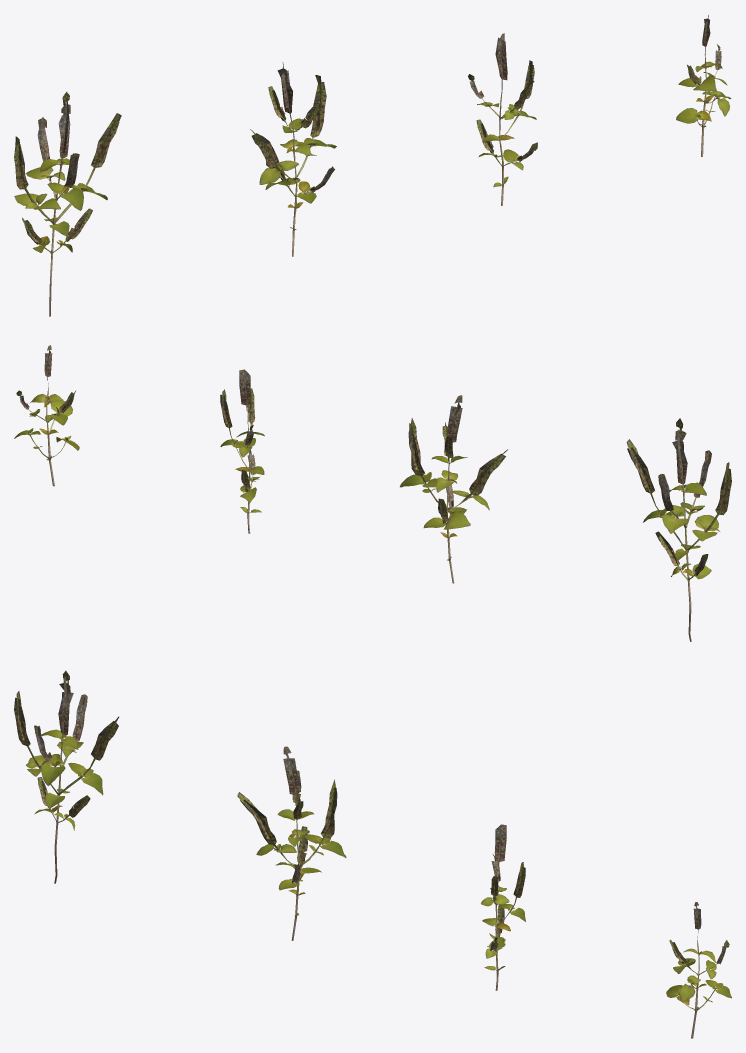
File: shrub_c.glb
The picture shows the model from 3 angles, top to bottom: view 1: azimuth 30°, elevation 25°; view 2: azimuth 150°, elevation 25°; view 3: azimuth 330°, elevation 25°; orthographic projection. The views are drawn at different scales.
Visible parts, largest first — view 1: shrub_03_a, shrub_03_b, shrub_03_c, shrub_03_d; view 2: shrub_03_a, shrub_03_b, shrub_03_c, shrub_03_d; view 3: shrub_03_a, shrub_03_b, shrub_03_c, shrub_03_d.
Boxes of the visible parts, x1,y1,x2,y2 form: shrub_03_a: (14, 91, 121, 316); shrub_03_b: (250, 62, 336, 256); shrub_03_c: (468, 33, 537, 205); shrub_03_d: (676, 15, 731, 156); shrub_03_a: (626, 418, 731, 641); shrub_03_b: (400, 395, 507, 583); shrub_03_c: (220, 369, 264, 533); shrub_03_d: (14, 345, 79, 486); shrub_03_a: (14, 670, 118, 883); shrub_03_b: (237, 746, 346, 940); shrub_03_c: (481, 824, 525, 990); shrub_03_d: (666, 902, 731, 1038).
Bounding box in the file's own units: 1.37 × 0.4028 × 0.1512.
1 material, 1 textured.
